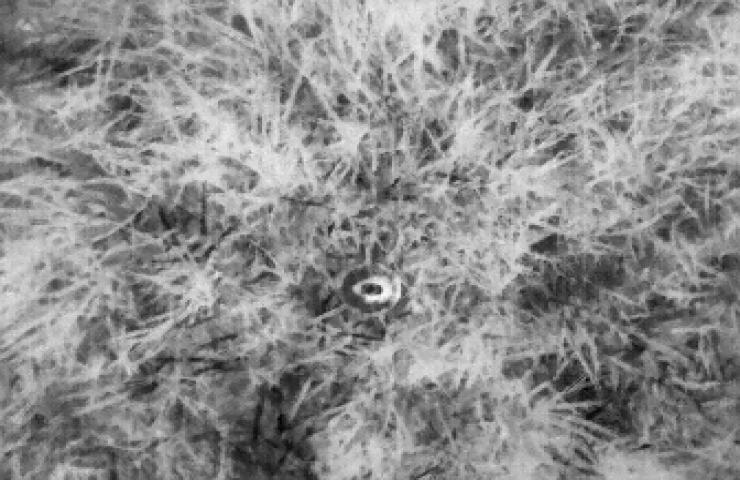landmines: (336, 258, 405, 322)
